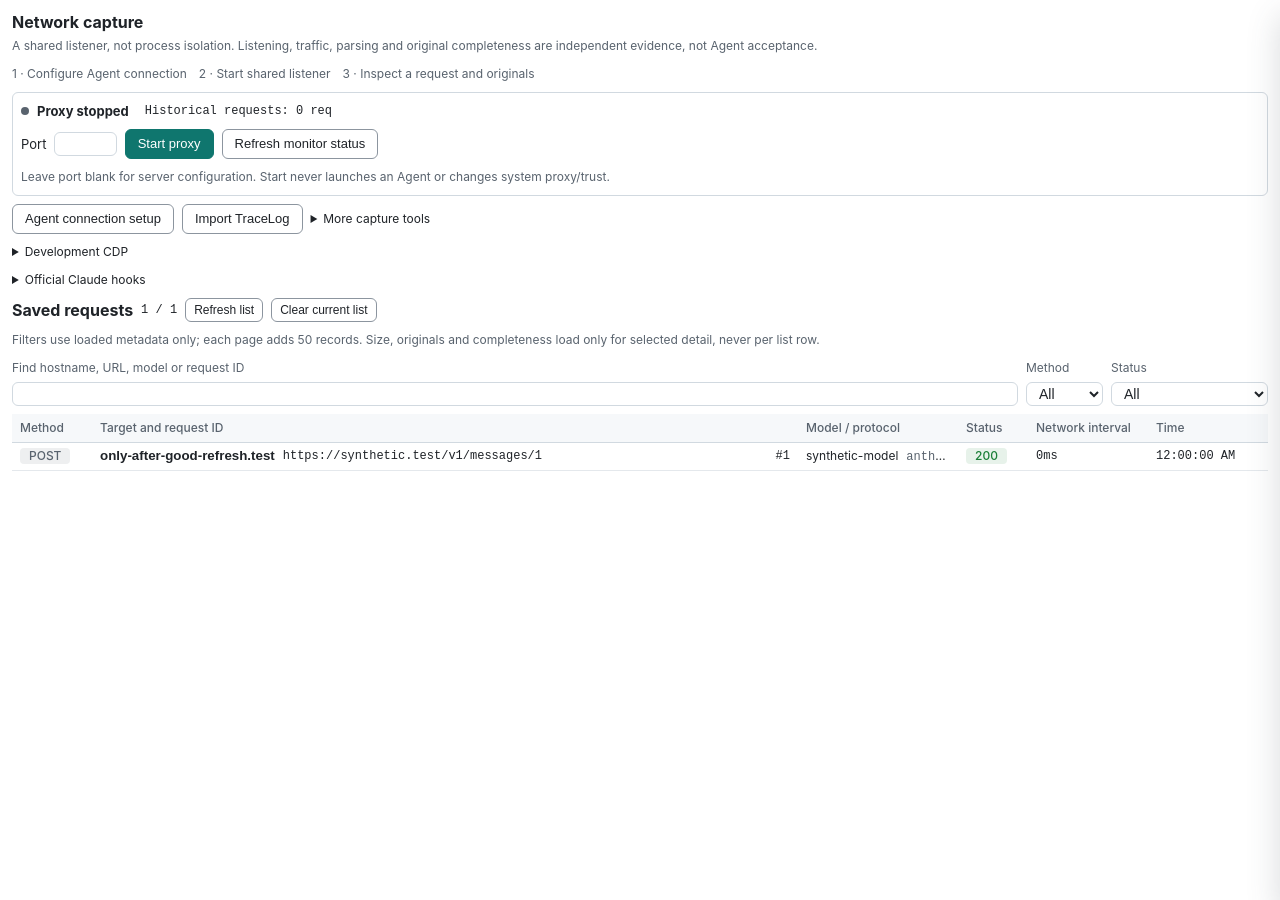
keeps local hiding through a failure refresh, rejects late recovery and restores only after successful retry
Click the button "Clear current list". click: (324, 310)
box: [271,298,377,322]
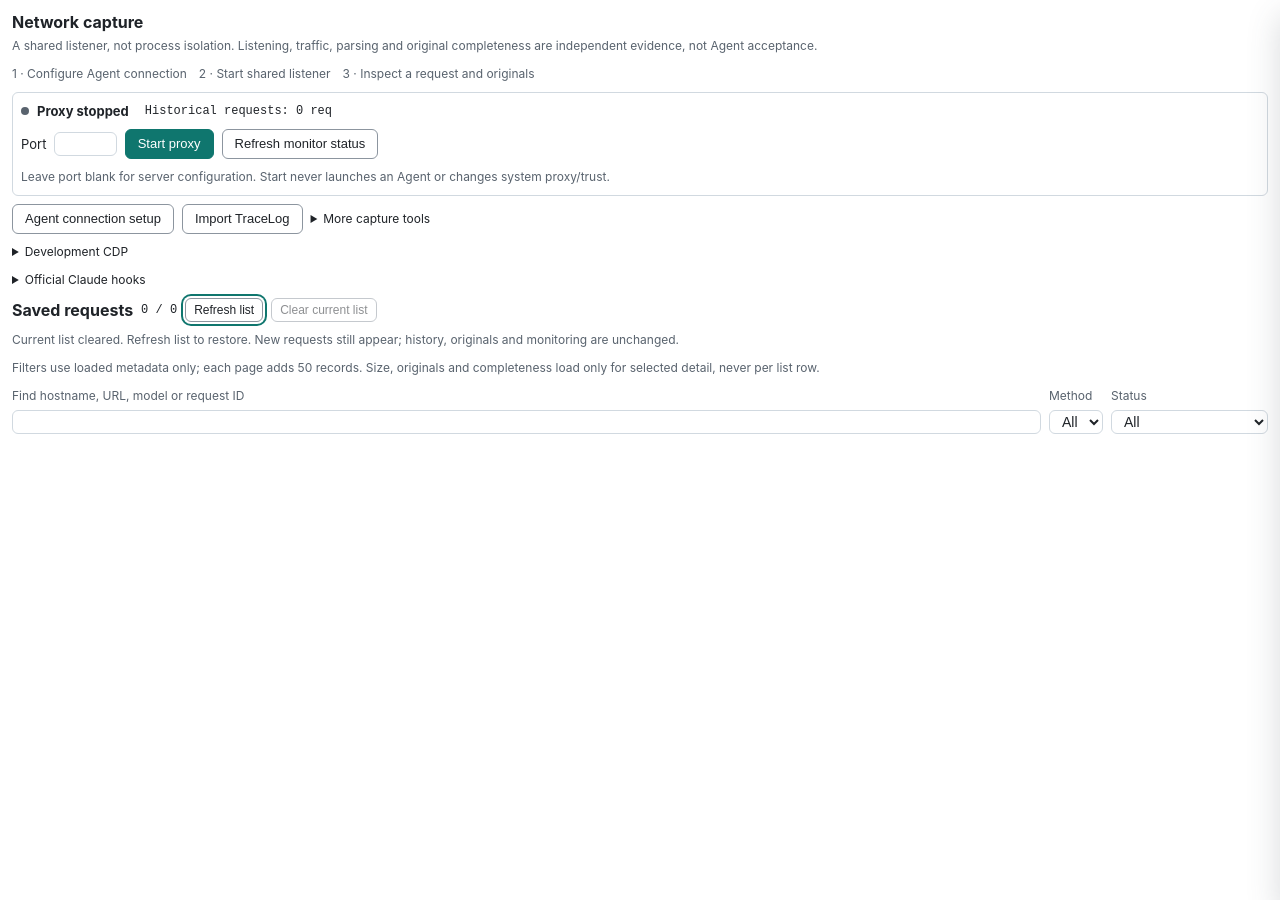
Click the button "Refresh list". click: (224, 310)
box: [185,298,263,322]
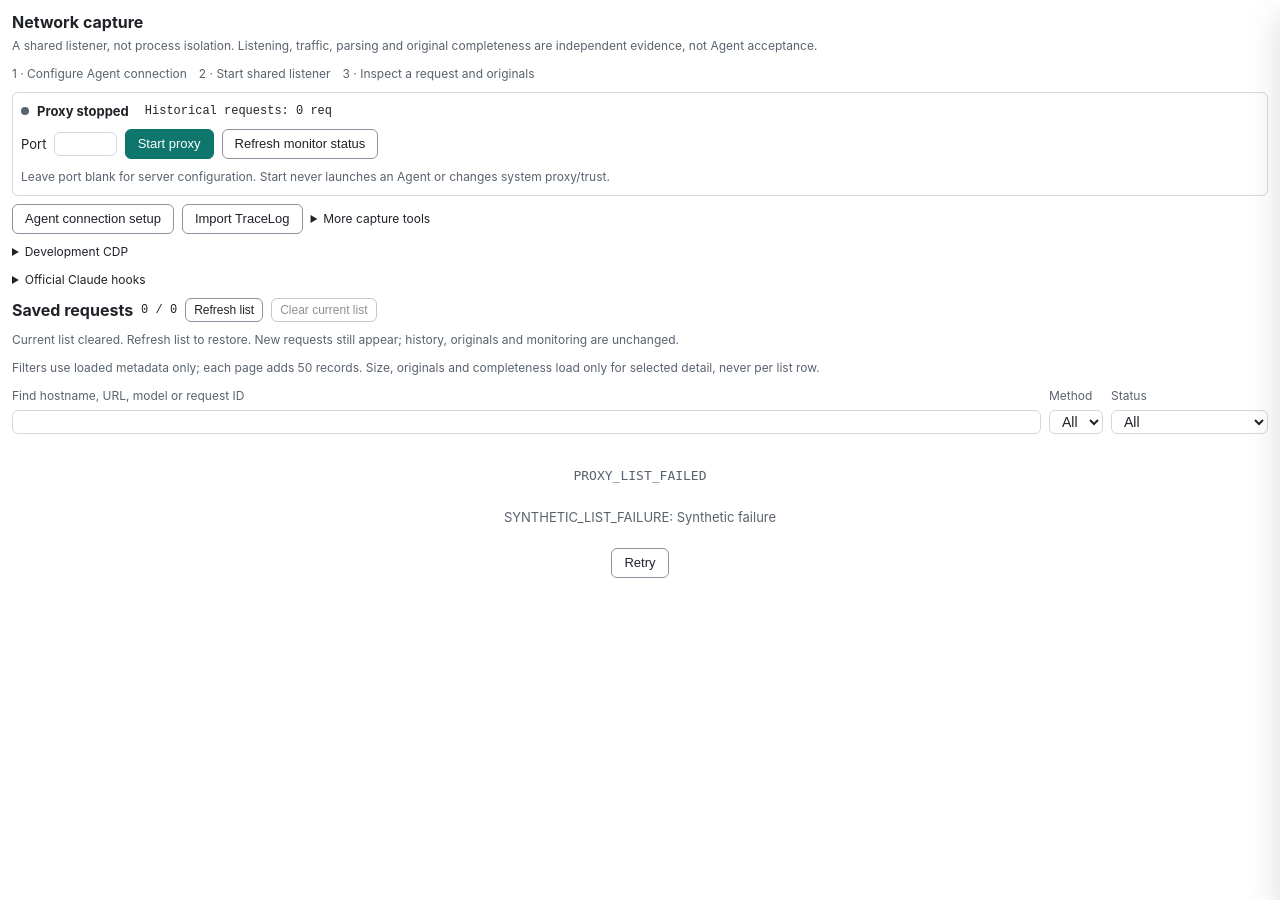
expect the text "only-after-good-refresh.test" is not shown: met
expect the 2nd message shows "Refresh list to restore": met, box [12,332,679,347]
expect the text "PROXY_LIST_FAILED" is shown: met, box [574,466,707,486]
Click the button "Retry". click: (640, 563)
box: [612,548,669,578]
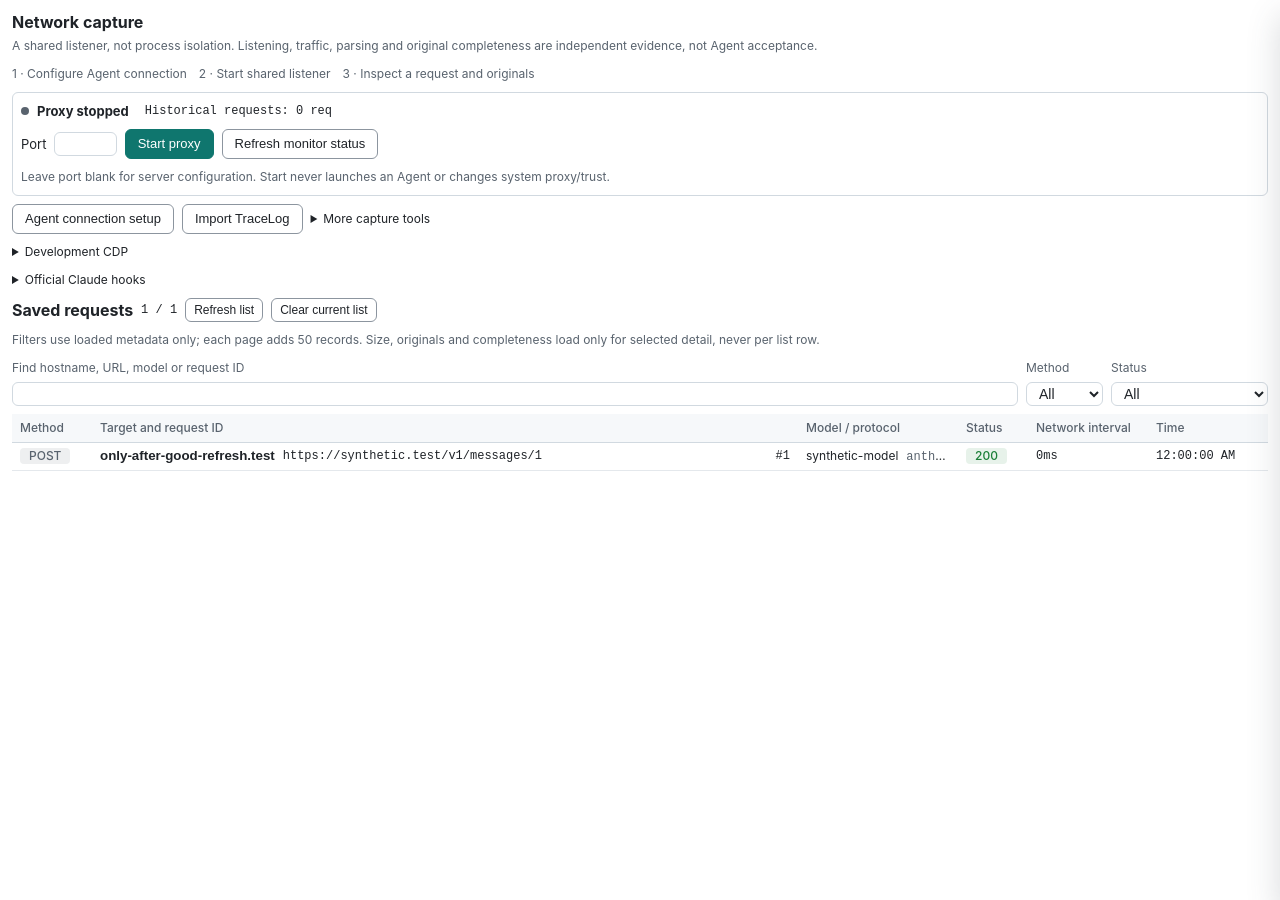
expect the text "only-after-good-refresh.test" is shown: met, box [100,449,275,463]
expect the text "PROXY_LIST_FAILED" is gone: met
